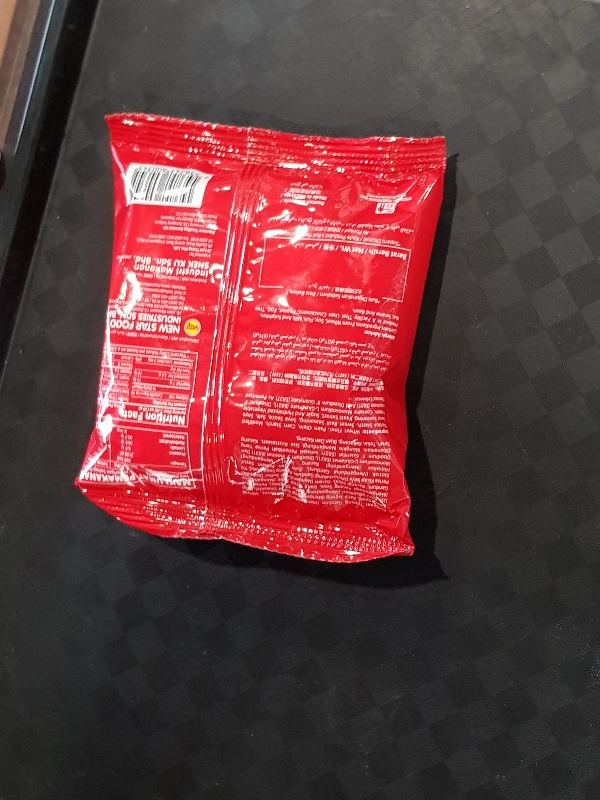ShoyueMi Spicy Flavoured Snacks: (73, 110, 449, 570)
